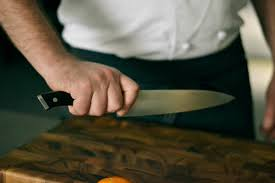weapon-unusual: (30, 83, 248, 122)
